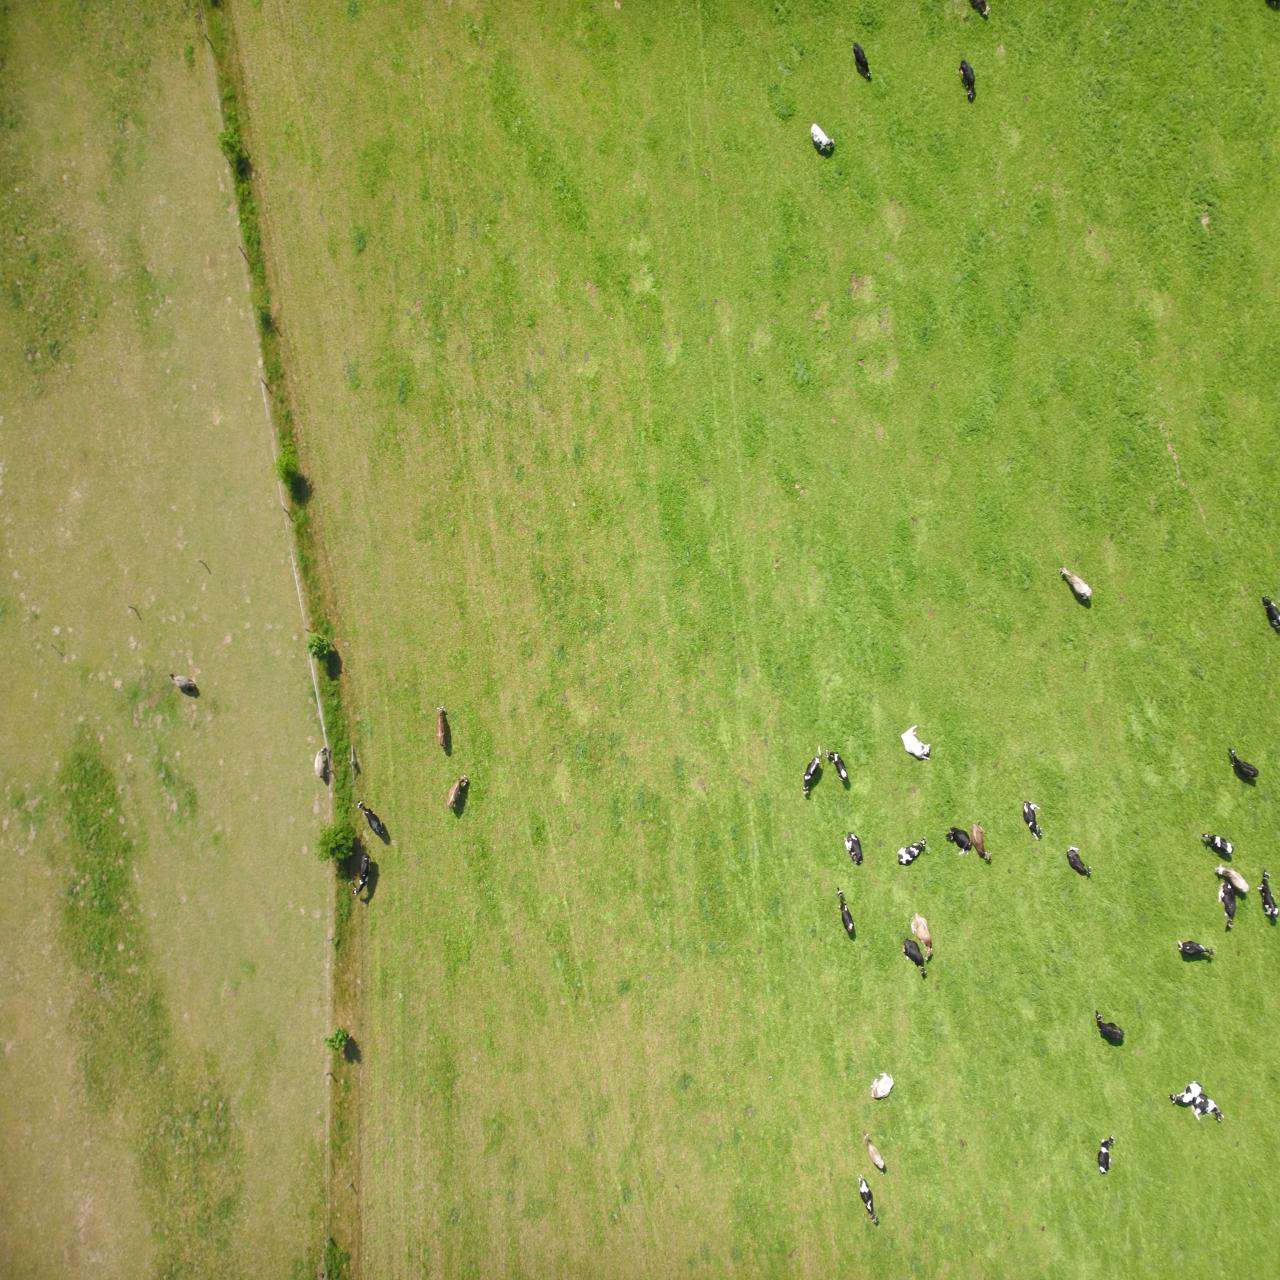cow: (401, 54, 423, 105), (457, 482, 478, 536), (349, 518, 379, 554), (30, 386, 64, 416), (347, 319, 368, 367), (188, 682, 220, 713), (910, 383, 932, 427), (394, 109, 417, 150), (897, 444, 922, 481), (2, 363, 22, 410), (353, 304, 377, 341), (155, 238, 184, 267), (353, 413, 382, 442), (56, 157, 86, 186), (21, 502, 50, 531), (76, 175, 111, 198), (237, 440, 257, 481), (425, 347, 443, 393), (288, 418, 308, 458), (431, 498, 455, 531), (45, 350, 61, 397), (306, 425, 333, 454), (811, 471, 832, 505), (189, 402, 212, 433), (408, 1203, 428, 1238), (46, 425, 79, 447), (387, 179, 410, 209), (304, 1183, 321, 1220), (165, 105, 182, 145), (416, 416, 436, 449), (66, 324, 102, 341), (445, 1130, 469, 1157), (833, 533, 844, 576)
